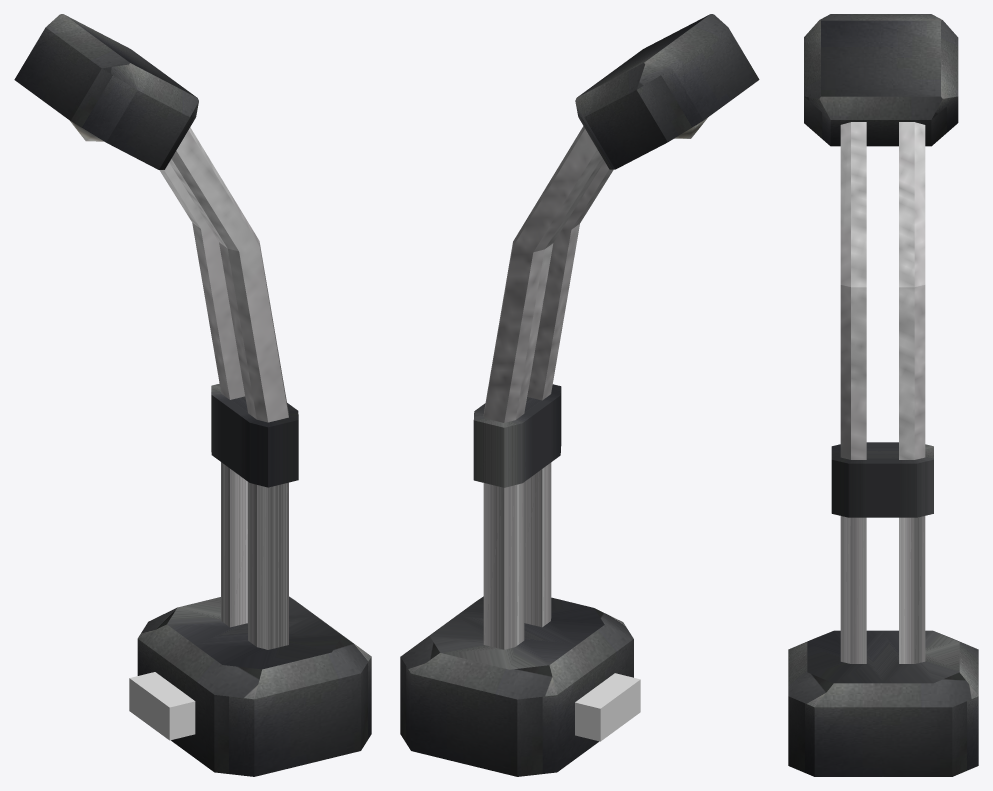
Rendered from desk lamp.FBX.
The picture shows the model from 3 angles, left to right: view 1: azimuth 30°, elevation 25°; view 2: azimuth 150°, elevation 25°; view 3: azimuth 270°, elevation 25°; orthographic projection. The views are drawn at different scales.
Parts seen in each view (by area): view 1: Box001, Object001, Box002, Box003; view 2: Box001, Object001, Box002, Box003; view 3: Box001, Object001, Box002.
Boxes of the visible parts, x1,y1,x2,y2 form: Box001: (137, 383, 371, 776); Object001: (159, 127, 288, 649); Box002: (14, 14, 198, 169); Box003: (129, 672, 195, 740); Box001: (400, 384, 633, 776); Object001: (483, 126, 613, 649); Box002: (575, 14, 759, 169); Box003: (575, 673, 640, 741); Box001: (788, 442, 978, 776); Object001: (840, 122, 925, 663); Box002: (804, 14, 958, 146).
Bounding box in the file's own units: 50.3 × 119 × 31.62.
3 materials, 3 textured.
